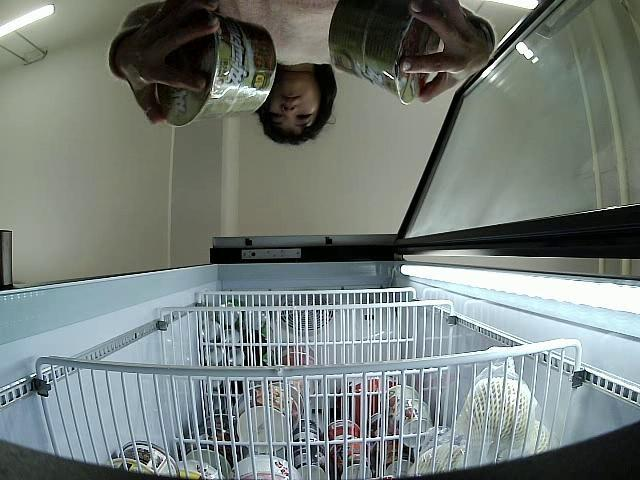03_chapagetti_L: (156, 1, 275, 126), (329, 0, 450, 106)
